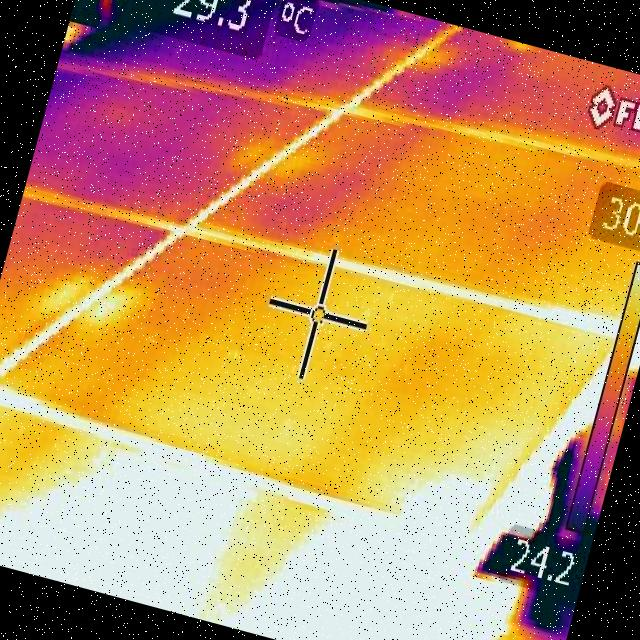Hotspot: (394, 444, 498, 543), (80, 272, 140, 340)
